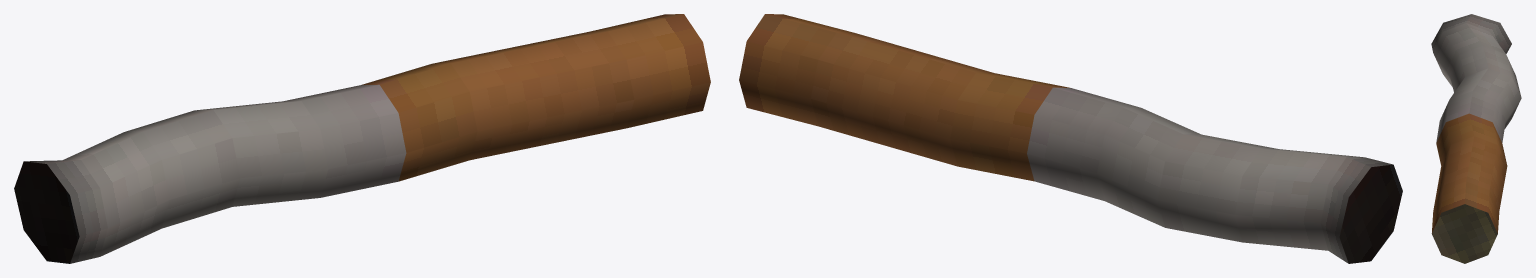
Rendered from Cig2.glb.
3 renders of one model, left to right at view 1: azimuth 30°, elevation 25°; view 2: azimuth 150°, elevation 25°; view 3: azimuth 270°, elevation 25°, orthographic. The views are drawn at different scales.
Visible parts, largest first — view 1: cig_2; view 2: cig_2; view 3: cig_2.
Boxes of the visible parts, x1,y1,x2,y2 form: cig_2: [14, 14, 710, 263]; cig_2: [739, 14, 1402, 263]; cig_2: [1431, 14, 1521, 263].
Size of the model in its own units: 0.0918 by 0.0135 by 0.0184.
1 material, 1 textured.
